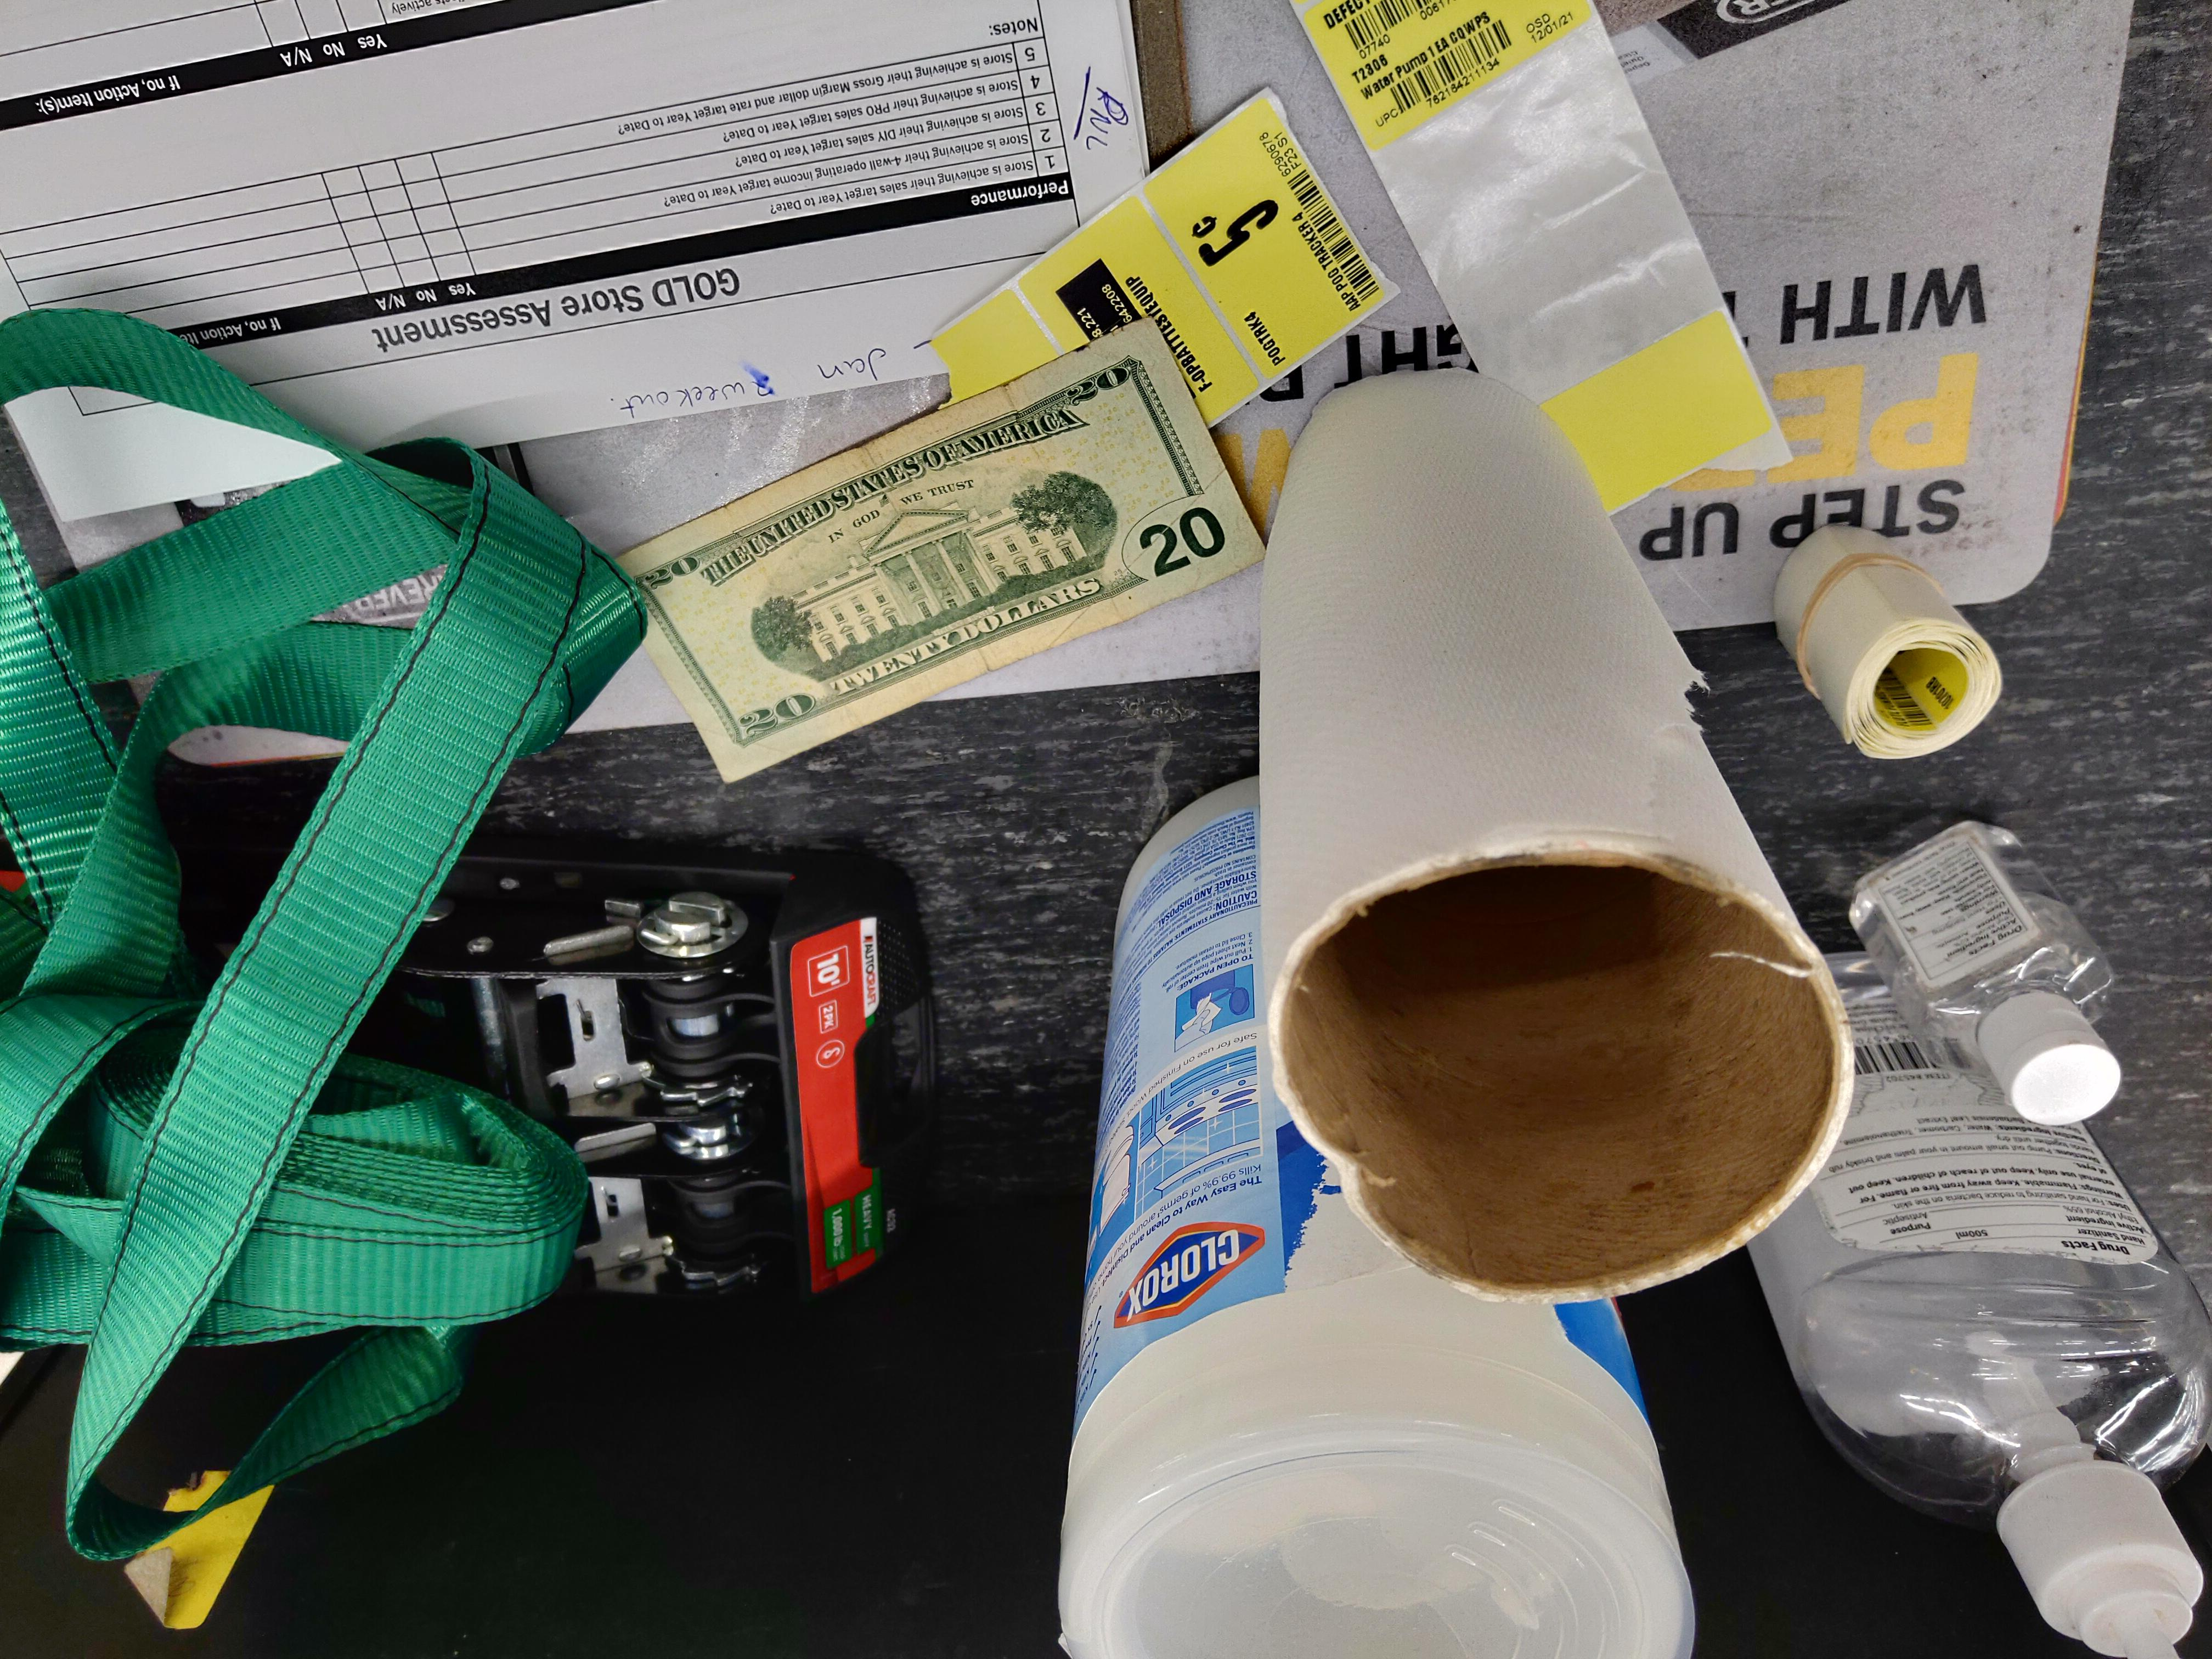TwentyBill: (615, 310, 1268, 789)
